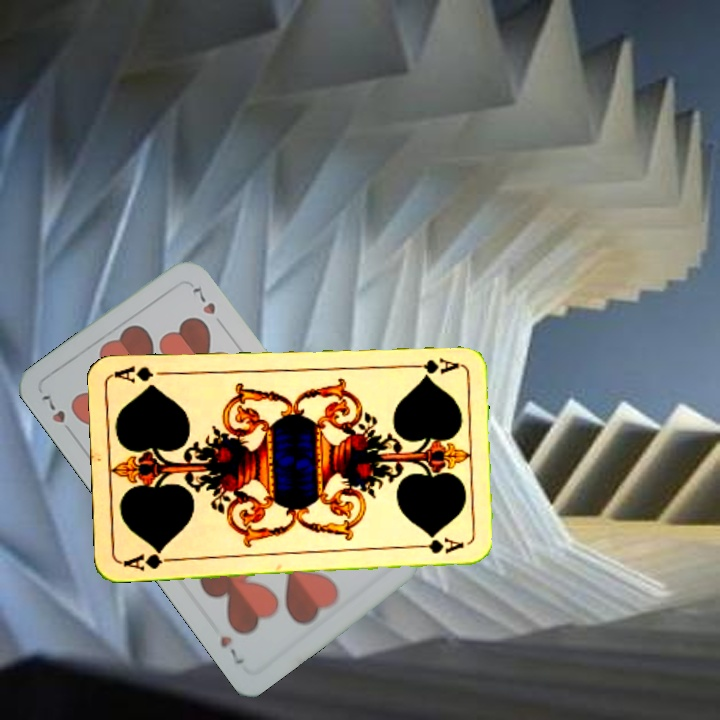GA: (119, 545, 178, 573), (402, 354, 461, 376)
H7: (37, 390, 77, 439)
